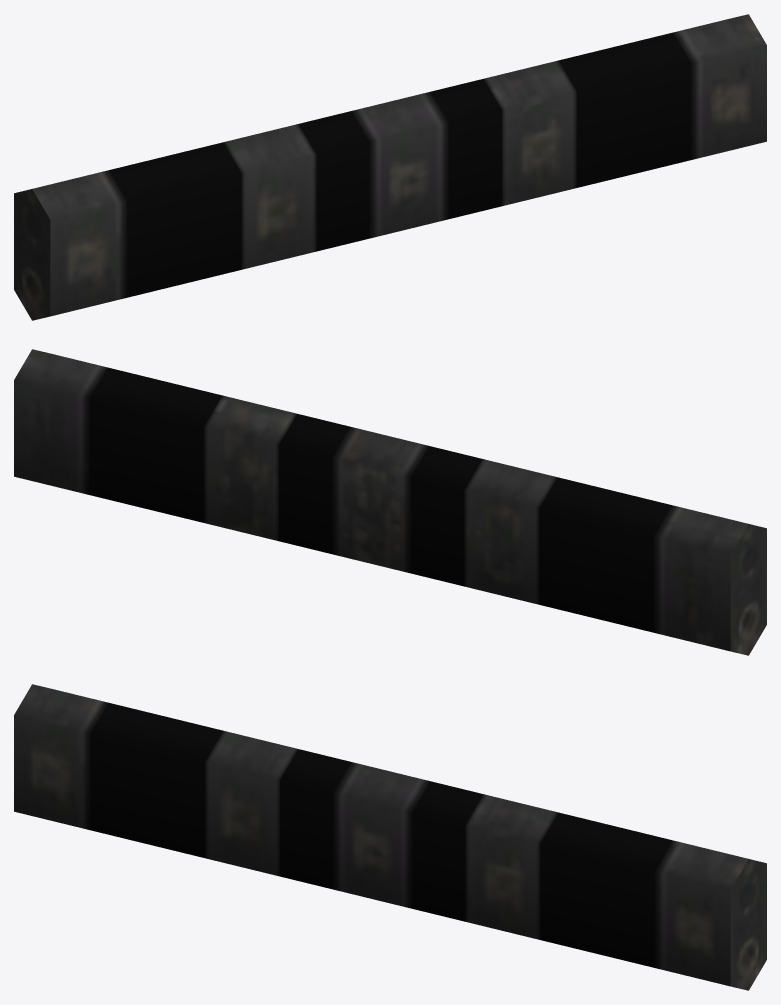
The picture shows the model from 3 angles, top to bottom: view 1: azimuth 30°, elevation 25°; view 2: azimuth 150°, elevation 25°; view 3: azimuth 330°, elevation 25°; orthographic projection.
Parts seen in each view (by area): view 1: set_0_group_0; view 2: set_0_group_0; view 3: set_0_group_0.
Part boxes in pixels (x1=…): set_0_group_0: x1=14, y1=14, x2=766, y2=320; set_0_group_0: x1=14, y1=349, x2=766, y2=655; set_0_group_0: x1=14, y1=684, x2=766, y2=990.
Bounding box in the file's own units: 0.5017 × 0.0882 × 0.0442.
1 material, 1 textured.
